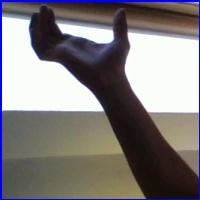space: (22, 3, 144, 83)
